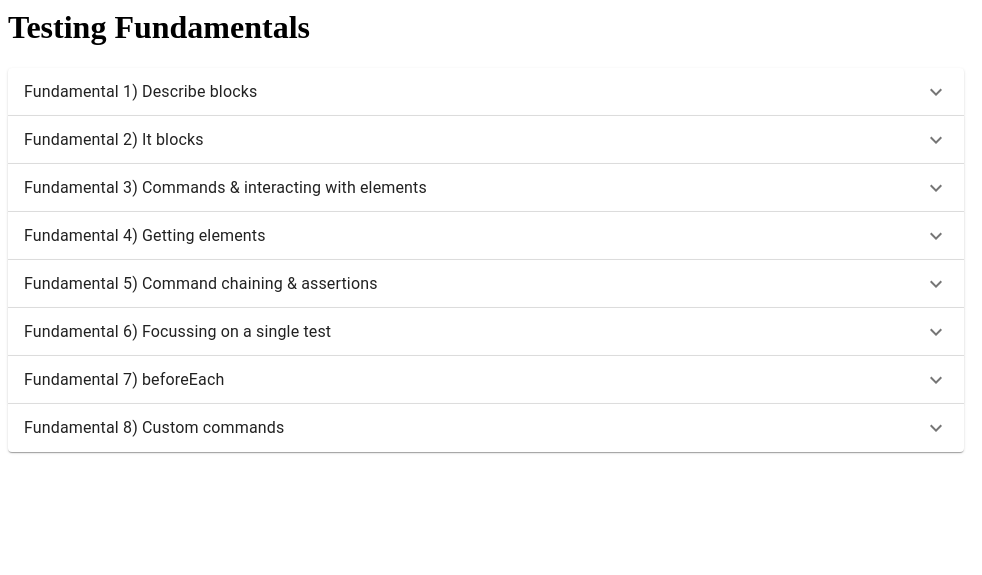
Test case: Fundamentals test › Accordion works correctly
This screenshot has width=982, height=575.
Expected: the text "Your tests will exist in a describe block" is not shown
What coordinates should you click on to do the following:
click the button "Fundamental 1) Describe blocks"
I would click on:
 (141, 91)
Its box is x1=24 y1=80 x2=948 y2=104.
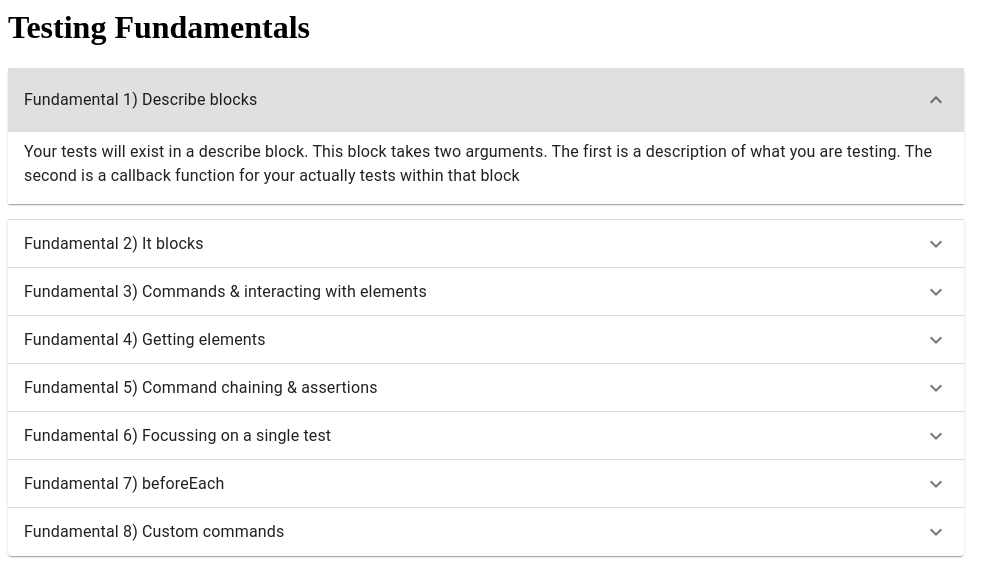
Expected: the text "Your tests will exist in a describe block" is shown, x1=24 y1=140 x2=948 y2=188
What coordinates should you click on to do the following:
click the button "Fundamental 1) Describe blocks"
I would click on:
 (141, 99)
Its box is x1=8 y1=68 x2=964 y2=132.
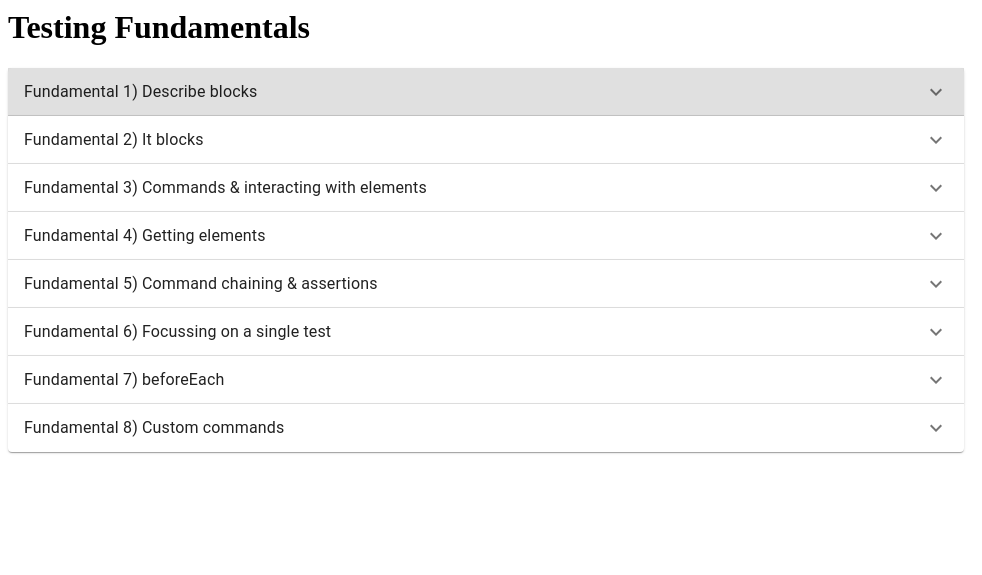
Expected: the text "Your tests will exist in a describe block" is gone
